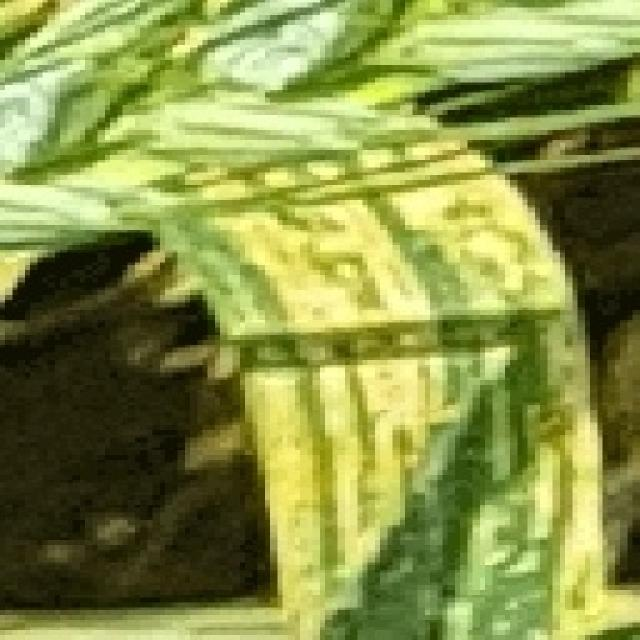Black Rust: (0, 228, 268, 610)
Healthy Wheat: (0, 0, 638, 638)
